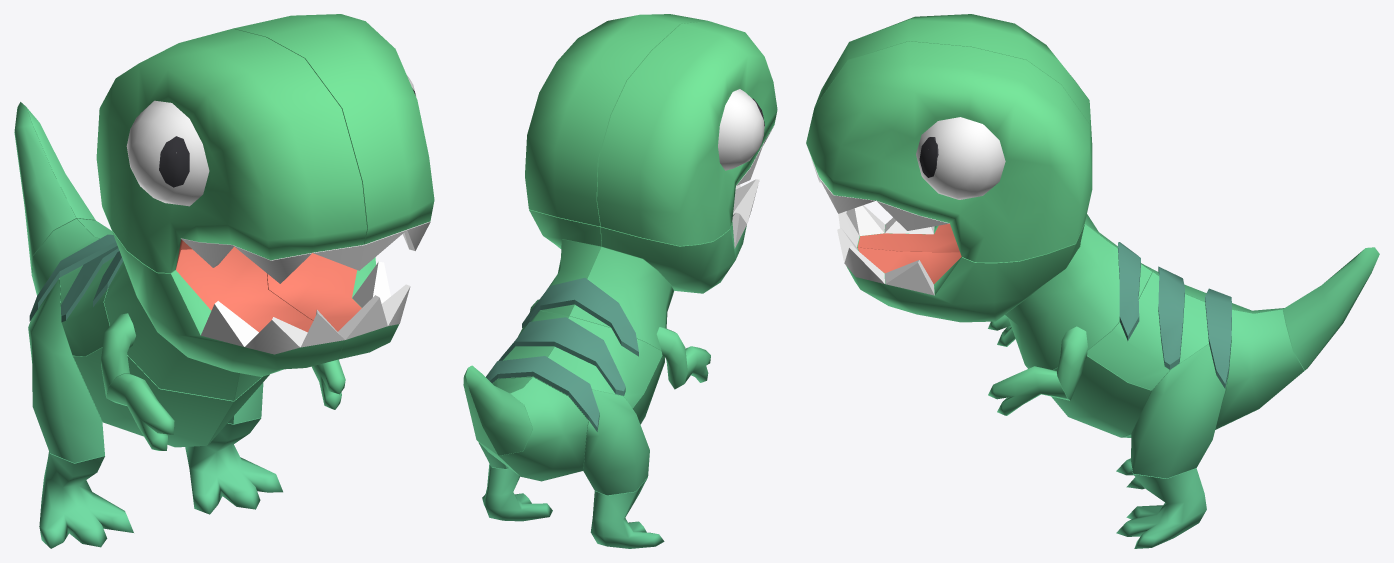
Rendered from Level_P_4.fbx.
The picture shows the model from 3 angles, left to right: view 1: azimuth 30°, elevation 25°; view 2: azimuth 150°, elevation 25°; view 3: azimuth 270°, elevation 25°; orthographic projection. The views are drawn at different scales.
Parts seen in each view (by area): view 1: Cube.117, Cube.130, Cube.098, Cube.104, Cube.131, Cube.128, Cube.108, Cube.129, Cube.125, Cube.103, Cube.102, Cube.127 (+19 smaller); view 2: Cube.117, Cube.130, Cube.107, Cube.104, Cube.128, Cube.098, Cube.127, Cube.102, Cube.123, Cube.096, Cube.131, Cube.108 (+11 smaller); view 3: Cube.130, Cube.129, Cube.116, Cube.119, Cube.117, Cube.118, Cube.109, Cube.105, Cube, Cube.103, Cube.101, Cube.123 (+9 smaller).
Boxes of the visible parts, <box> form: Cube.117: <box>96,28,367,272</box>; Cube.130: <box>233,14,434,244</box>; Cube.098: <box>102,208,344,376</box>; Cube.104: <box>28,279,104,462</box>; Cube.131: <box>126,100,209,206</box>; Cube.128: <box>104,261,239,400</box>; Cube.108: <box>39,451,133,548</box>; Cube.129: <box>267,253,399,359</box>; Cube.125: <box>73,347,233,447</box>; Cube.103: <box>185,417,282,514</box>; Cube.102: <box>14,102,76,275</box>; Cube.127: <box>57,257,114,356</box>; Cube.117: <box>597,21,777,245</box>; Cube.130: <box>525,14,707,226</box>; Cube.107: <box>499,377,588,481</box>; Cube.104: <box>583,389,649,495</box>; Cube.128: <box>569,247,673,360</box>; Cube.098: <box>601,221,746,293</box>; Cube.127: <box>533,316,662,419</box>; Cube.102: <box>465,365,532,455</box>; Cube.123: <box>498,317,625,395</box>; Cube.096: <box>522,278,638,356</box>; Cube.131: <box>718,89,764,170</box>; Cube.108: <box>590,477,664,548</box>; Cube.130: <box>806,41,1092,262</box>; Cube.129: <box>846,223,1084,322</box>; Cube.116: <box>1005,224,1151,369</box>; Cube.119: <box>1131,344,1227,478</box>; Cube.117: <box>814,14,1092,162</box>; Cube.118: <box>1215,309,1304,429</box>; Cube.109: <box>1087,272,1208,390</box>; Cube.105: <box>916,117,1005,199</box>; Cube: <box>1283,247,1379,369</box>; Cube.103: <box>1116,462,1206,548</box>; Cube.101: <box>1025,356,1151,437</box>; Cube.123: <box>1158,266,1184,369</box>.
Bounding box in the file's own units: 1.12 × 2.2 × 2.48.
